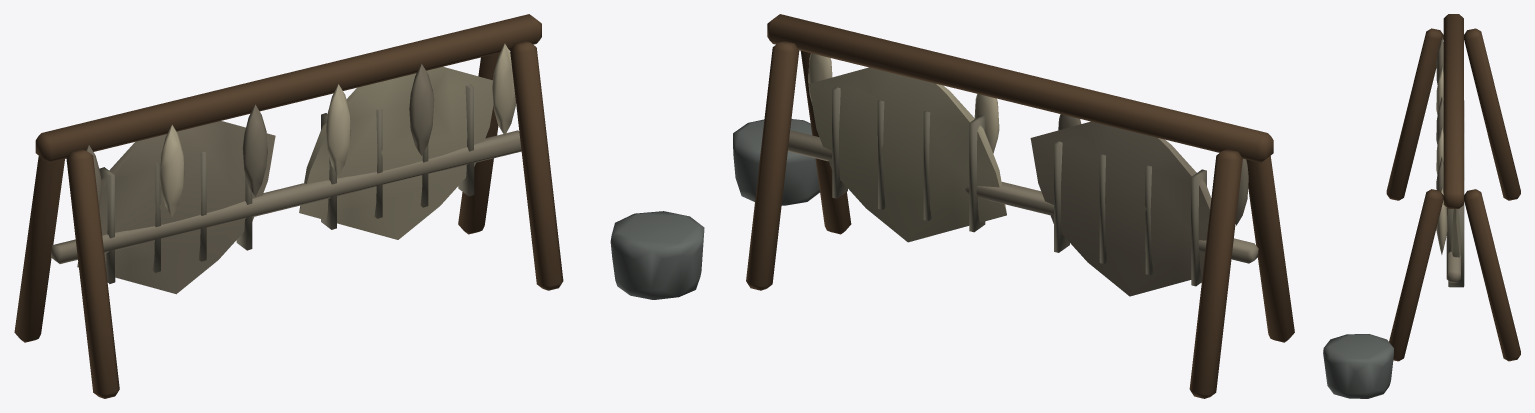
File: fish_rack_a_lod1.glb
3 views of the same model, side by side, from view 1: azimuth 30°, elevation 25°; view 2: azimuth 150°, elevation 25°; view 3: azimuth 270°, elevation 25° (orthographic). The views are drawn at different scales.
Parts seen in each view (by area): view 1: Surface.001; view 2: Surface.001; view 3: Surface.001.
Boxes of the visible parts, x1,y1,x2,y2 form: Surface.001: [14, 14, 704, 398]; Surface.001: [733, 14, 1294, 398]; Surface.001: [1323, 14, 1520, 398].
Bounding box in the file's own units: 4.29 × 1.64 × 1.67.
